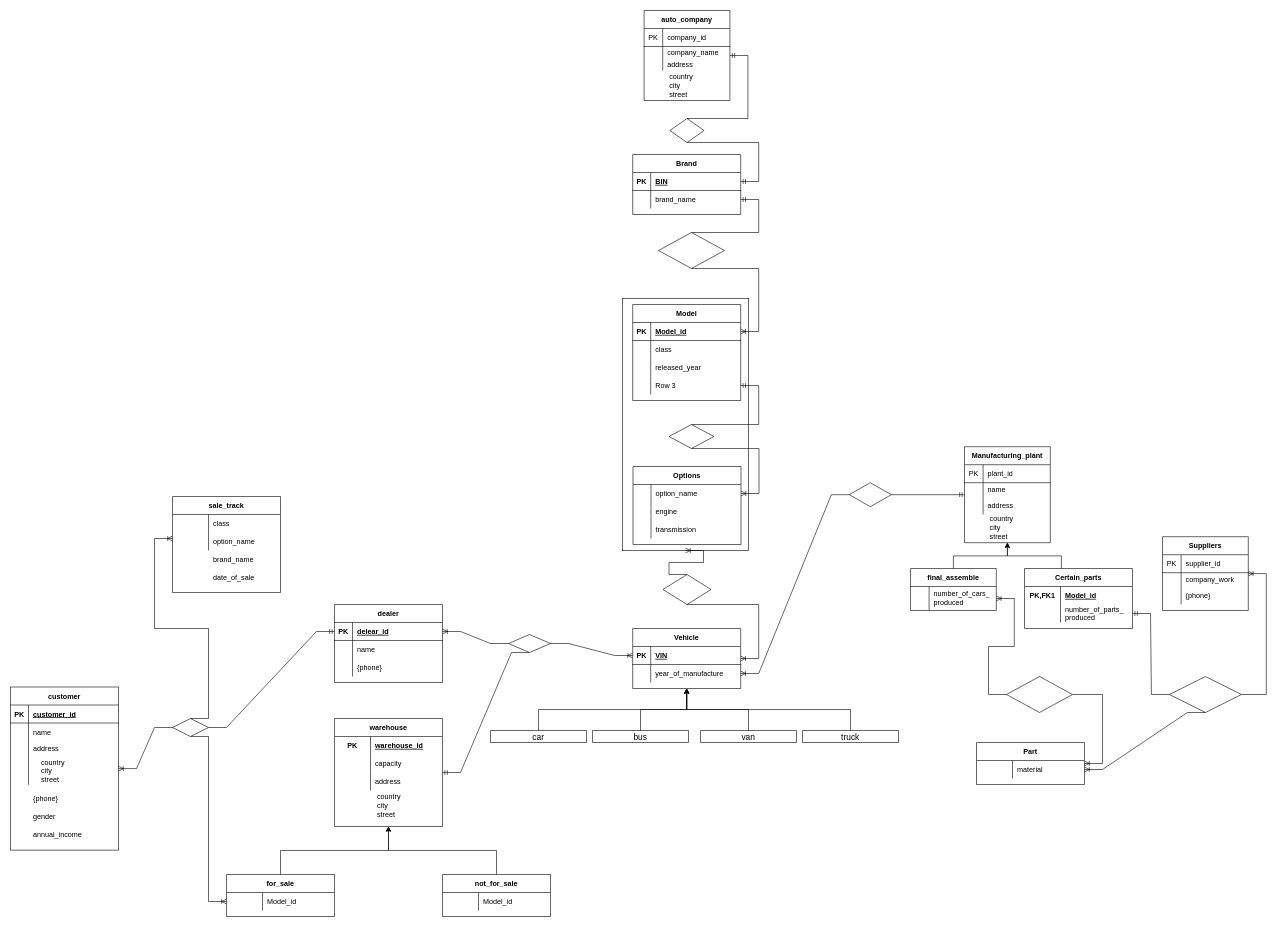
Some shapes in this 1282 by 927 pixel diagram are drawn without their labels. The centre of each missing label's shape, as x and y in pixels:
"brand`s_models" belongs at point (691, 250).
"buy" belongs at point (529, 643).
"creates" belongs at point (870, 494).
"customize" belongs at point (691, 436).
"description" belongs at point (686, 589).
"for_manufacture" belongs at point (1039, 694).
"has" belongs at point (686, 130).
"sale" belongs at point (190, 727).
"supply" belongs at point (1205, 694).
